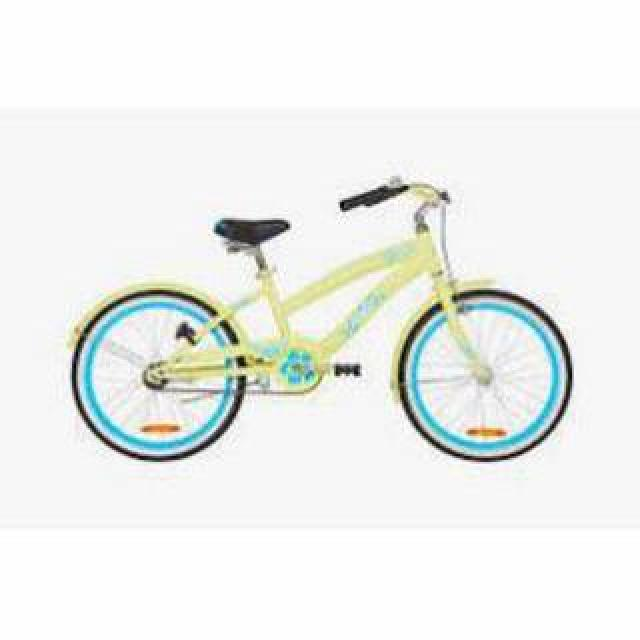Person: (68, 176, 580, 464)
